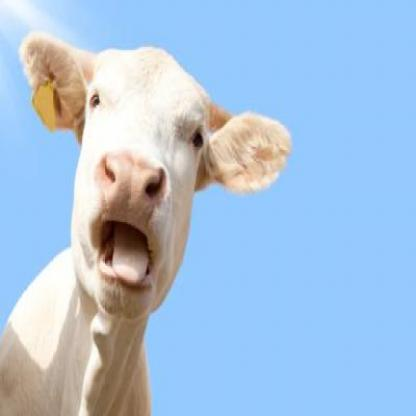lower: (119, 289, 127, 300)
mouth: (92, 151, 165, 315)
upper: (122, 171, 139, 195)
